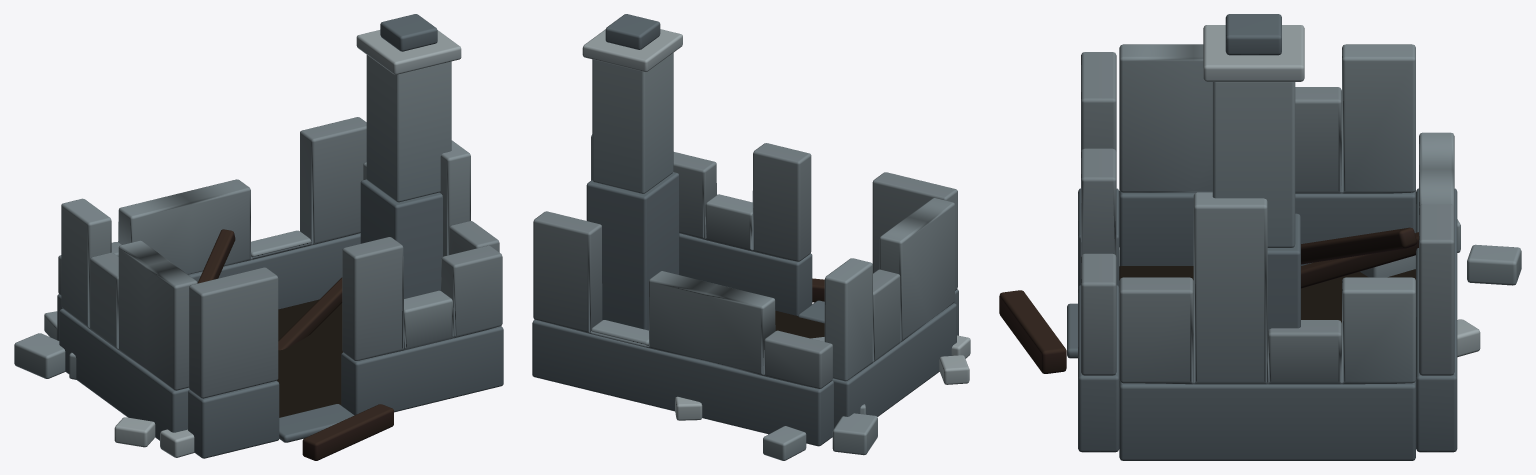
The model's file is ash_house_a.glb.
3 renders of one model, left to right at view 1: azimuth 30°, elevation 25°; view 2: azimuth 150°, elevation 25°; view 3: azimuth 270°, elevation 25°, orthographic. The views are drawn at different scales.
Visible parts, largest first — view 1: ash_house_a; view 2: ash_house_a; view 3: ash_house_a.
Part boxes in pixels (x1,y1,x2,y2): ash_house_a: [14, 14, 503, 460]; ash_house_a: [532, 14, 970, 460]; ash_house_a: [999, 14, 1521, 460].
Bounding box in the file's own units: 2.9 × 2.52 × 2.78.
